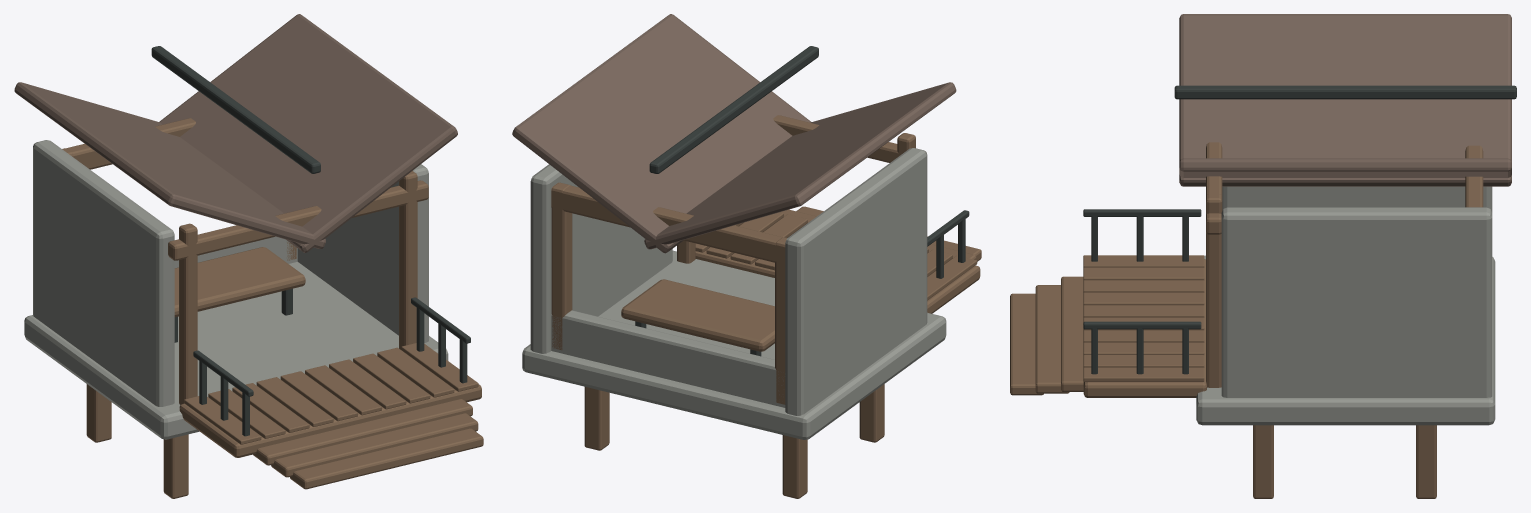
File: hydrology-house.glb
3 renders of one model, left to right at view 1: azimuth 30°, elevation 25°; view 2: azimuth 150°, elevation 25°; view 3: azimuth 270°, elevation 25°, orthographic. The views are drawn at different scales.
Visible parts, largest first — view 1: roof_right, left_wall, stone_plinth, roof_left, right_wall, interior_table, entry_step_2, entry_step_1, entry_step_0, front_header, entry_deck, front_post_-1.8 (+18 smaller); view 2: roof_right, left_wall, stone_plinth, roof_left, right_wall, rear_sill, interior_table, rear_header, roof_ridge, rear_post_r, rear_post_l, entry_deck (+7 smaller); view 3: right_wall, roof_left, stone_plinth, roof_right, left_wall, roof_ridge, entry_step_1, front_post_1.8, entry_step_2, entry_step_0, entry_deck, deck_plank_01 (+15 smaller).
Boxes of the visible parts, x1,y1,x2,y2 form: roof_right: (159, 14, 457, 252); left_wall: (33, 140, 174, 406); stone_plinth: (24, 262, 448, 439); roof_left: (14, 82, 325, 248); right_wall: (297, 164, 428, 342); interior_table: (174, 247, 305, 317); entry_step_2: (290, 428, 483, 489); entry_step_1: (271, 413, 478, 477); entry_step_0: (253, 399, 472, 465); front_header: (168, 180, 428, 260); entry_deck: (179, 384, 481, 457); front_post_-1.8: (179, 223, 197, 404); roof_right: (512, 14, 811, 253); left_wall: (785, 148, 927, 415); stone_plinth: (522, 250, 946, 439); roof_left: (644, 82, 956, 249); right_wall: (530, 164, 672, 353); rear_sill: (551, 310, 785, 407); interior_table: (621, 279, 774, 351); rear_header: (551, 182, 785, 263); roof_ridge: (649, 46, 818, 173); rear_post_r: (551, 182, 572, 350); rear_post_l: (775, 237, 786, 404); entry_deck: (695, 250, 980, 313); right_wall: (1221, 207, 1492, 397); roof_left: (1179, 14, 1511, 186); stone_plinth: (1196, 255, 1495, 425); roof_right: (1179, 158, 1511, 177); left_wall: (1222, 186, 1492, 212); roof_ridge: (1174, 85, 1516, 99); entry_step_1: (1035, 285, 1069, 393); front_post_1.8: (1206, 194, 1222, 387); entry_step_2: (1010, 293, 1043, 395); entry_step_0: (1061, 276, 1083, 391); entry_deck: (1083, 259, 1206, 397); deck_plank_01: (1083, 267, 1204, 280).
Bounding box in the file's own units: 4.74 × 5.28 × 6.78.
